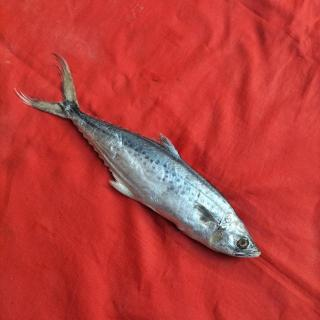Ikan: (16, 54, 278, 265)
